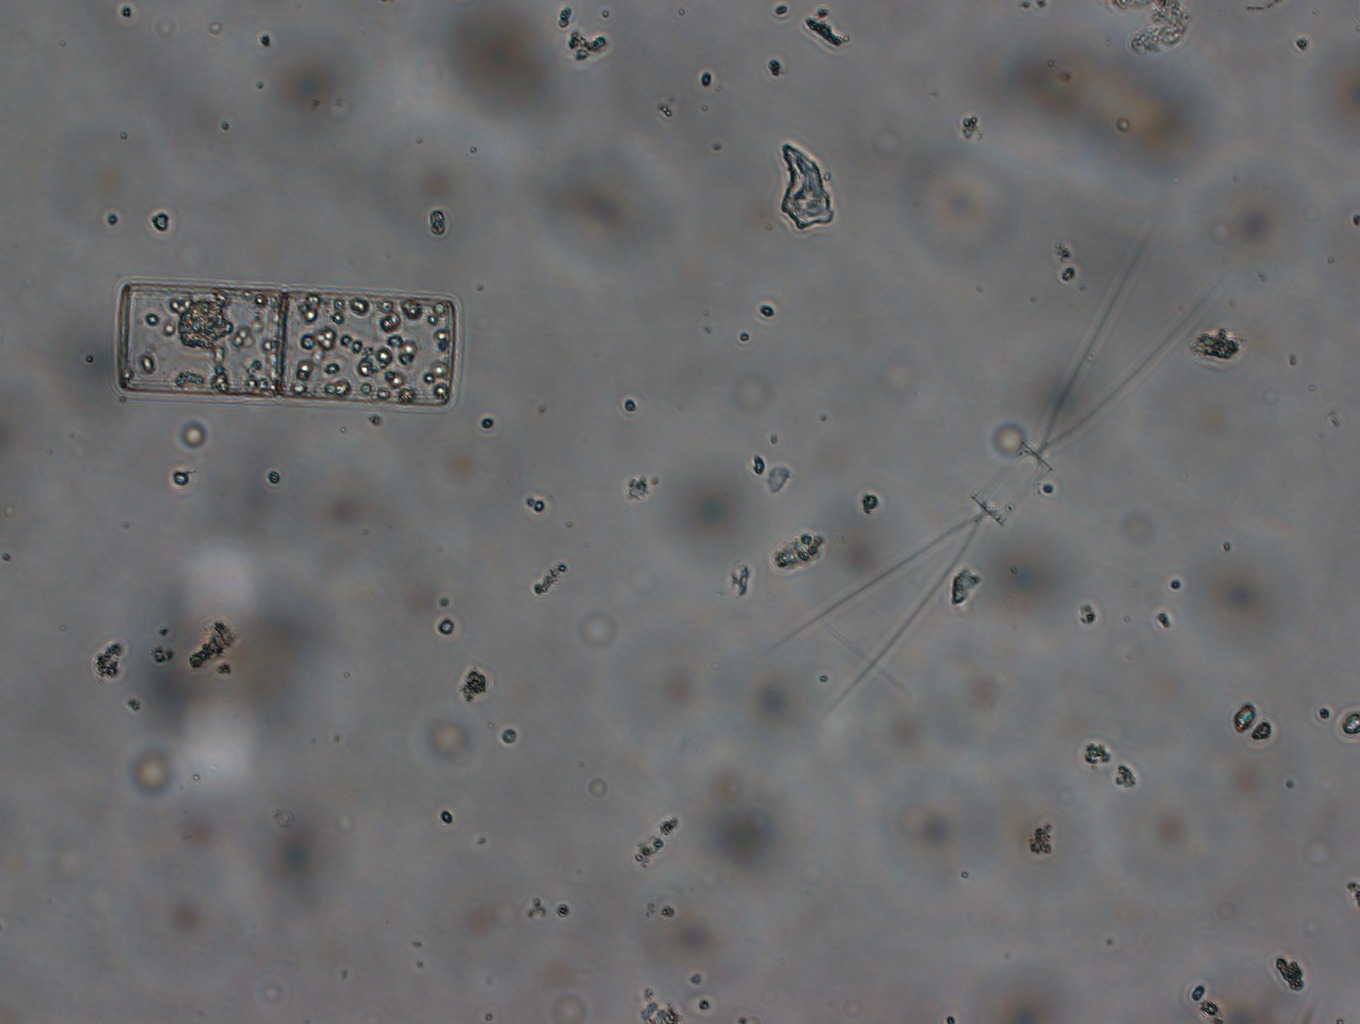chaetoceros: (763, 245, 1218, 719)
guinardia flaccida: (108, 278, 470, 414)
